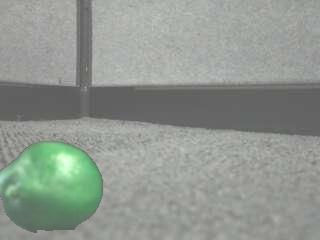Lime: (0, 140, 103, 233)
